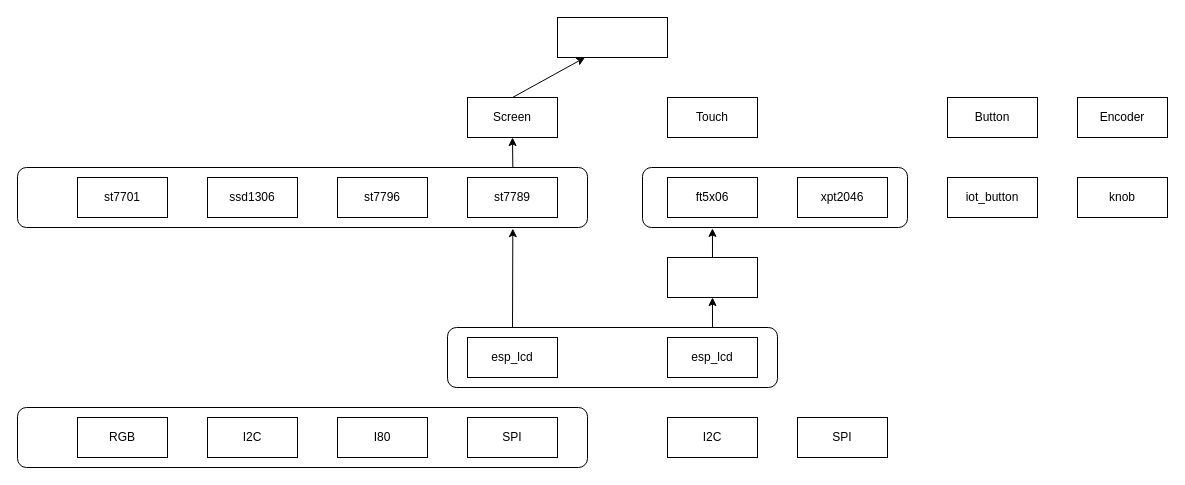
Image size: 1185x485. Some labels were removed from this diagram. The centre of each missing label's shape, as x and y in pixels:
"ESP_Display" belongs at [612,37].
"esp_lcd_touch" belongs at [712,277].
